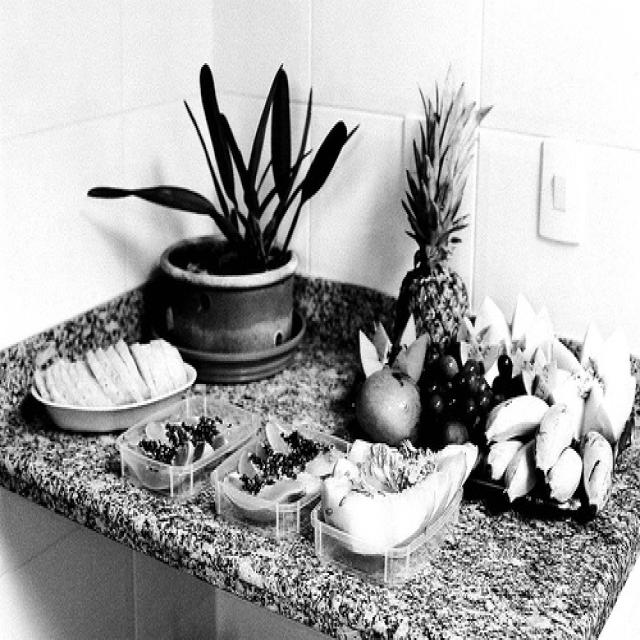pottedplant: (87, 61, 360, 384)
